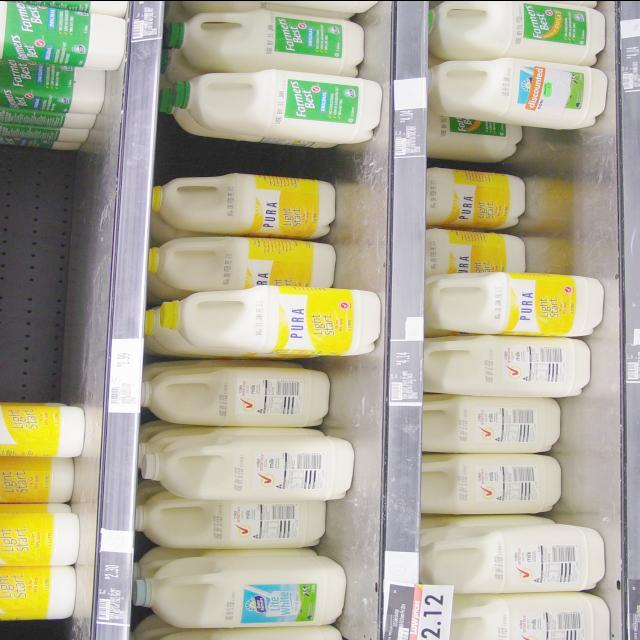empty_space: (0, 140, 108, 393), (526, 139, 610, 269), (563, 391, 621, 519), (340, 145, 384, 287)
